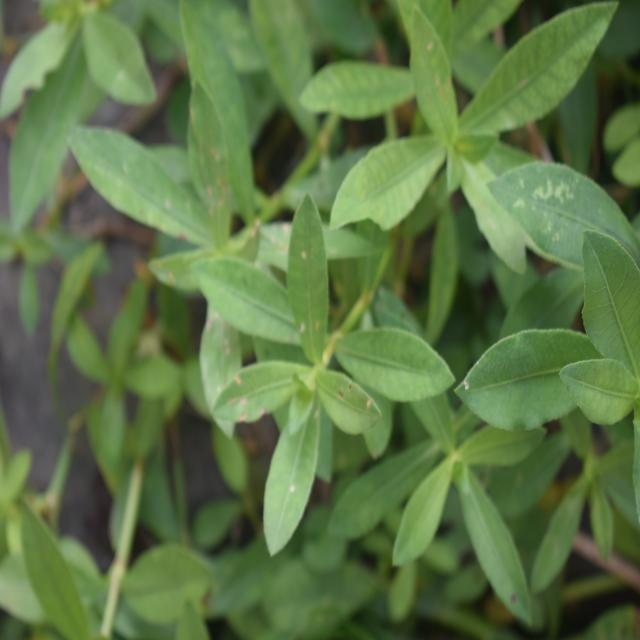Alligatorweed: (183, 207, 442, 538), (334, 0, 579, 285)
